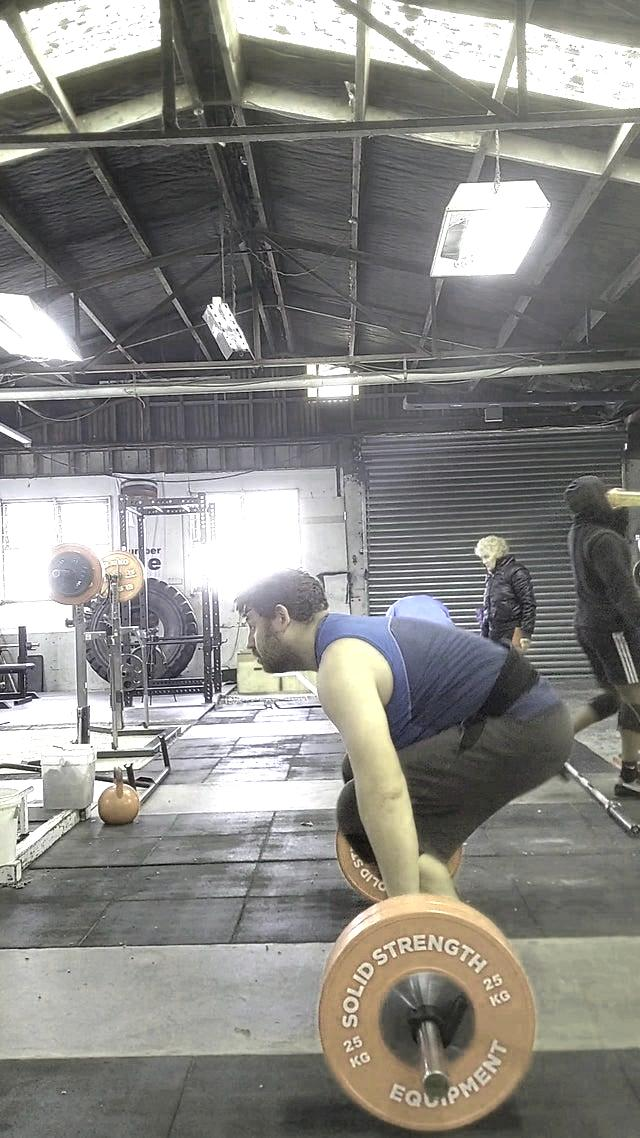Barbell: (414, 1058, 455, 1107)
